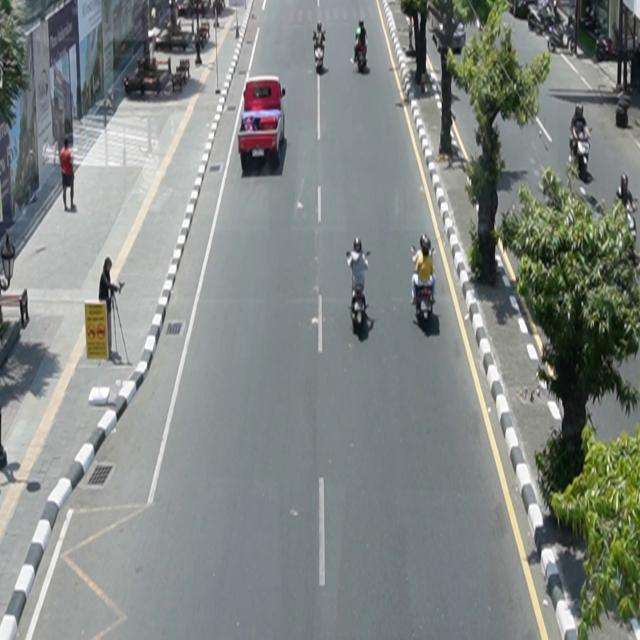car: (238, 76, 287, 168)
